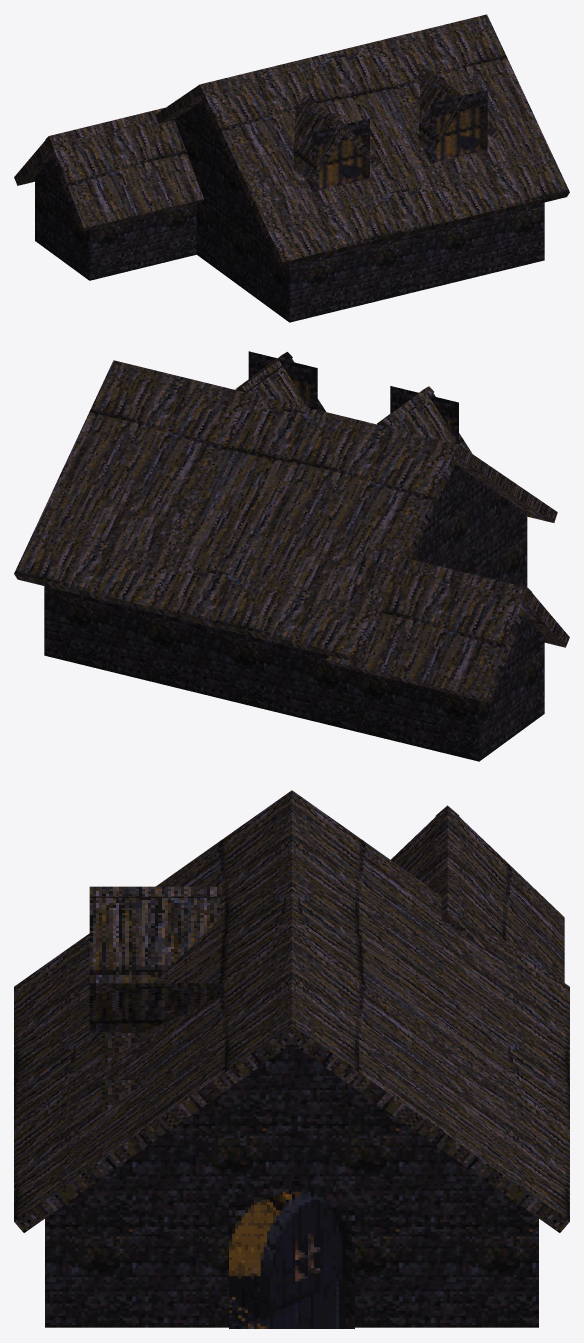
3 renders of one model, top to bottom at view 1: azimuth 30°, elevation 25°; view 2: azimuth 150°, elevation 25°; view 3: azimuth 270°, elevation 25°, orthographic. The views are drawn at different scales.
Parts seen in each view (by area): view 1: b_36_64; view 2: b_36_64; view 3: b_36_64.
Boxes of the visible parts, bbox=[...] form: b_36_64: bbox=[14, 14, 569, 322]; b_36_64: bbox=[14, 351, 569, 761]; b_36_64: bbox=[14, 790, 569, 1328].
Bounding box in the file's own units: 10.23 × 4.7 × 7.5.
Materials: 4 (4 with a texture image).
